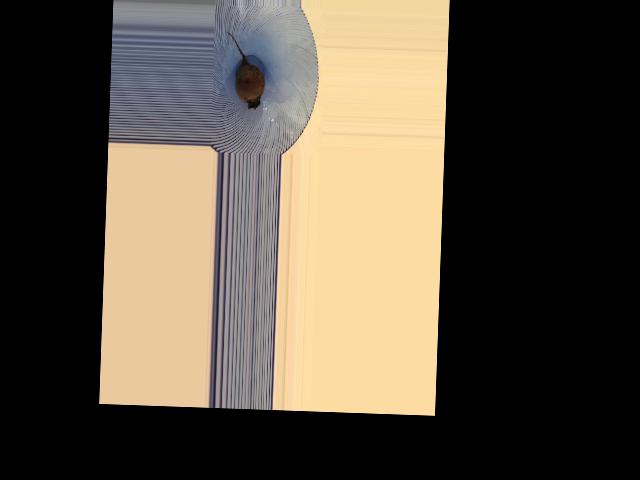beet: (224, 32, 265, 109)
